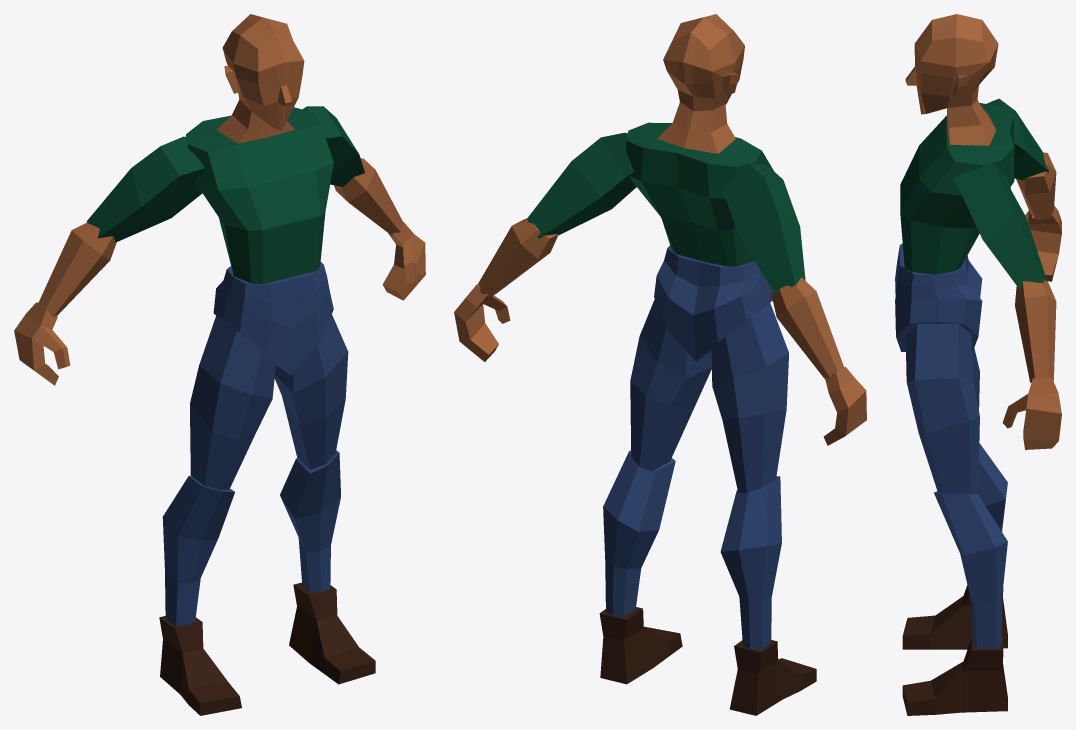
The model's file is ps1_style_texturing.glb.
The picture shows the model from 3 angles, left to right: view 1: azimuth 30°, elevation 25°; view 2: azimuth 150°, elevation 25°; view 3: azimuth 270°, elevation 25°; orthographic projection.
Visible parts, largest first — view 1: torso, Cube.003, Cube.004, Cube.005, Cube, hips, head, Cube.001, Cube.002; view 2: Cube.003, Cube.004, Cube, torso, head, hips, Cube.005, Cube.001, Cube.002; view 3: torso, Cube.003, head, Cube.005, Cube.004, Cube, hips, Cube.001, Cube.002.
Part boxes in pixels (x1,y1,x2,y2): torso: (186, 107, 333, 283); Cube.003: (190, 314, 348, 489); Cube.004: (162, 450, 340, 625); Cube.005: (159, 582, 375, 715); Cube: (86, 106, 364, 242); hips: (213, 262, 333, 375); head: (217, 14, 304, 143); Cube.001: (37, 158, 402, 316); Cube.002: (14, 222, 425, 385); Cube.003: (630, 299, 788, 493); Cube.004: (603, 450, 781, 649); Cube: (527, 132, 805, 296); torso: (626, 122, 773, 266); head: (657, 14, 744, 153); hips: (654, 245, 772, 361); Cube.005: (599, 607, 816, 715); Cube.001: (478, 218, 844, 379); Cube.002: (454, 284, 866, 445); torso: (900, 103, 1014, 274); Cube.003: (905, 323, 979, 494); head: (905, 14, 998, 145); Cube.005: (902, 585, 1007, 715); Cube.004: (934, 443, 1007, 649); Cube: (953, 98, 1049, 290); hips: (895, 243, 982, 351); Cube.001: (1015, 152, 1056, 382); Cube.002: (1002, 206, 1061, 449).
Bounding box in the file's own units: 1.33 × 2.14 × 0.4897.
1 material, 1 textured.
